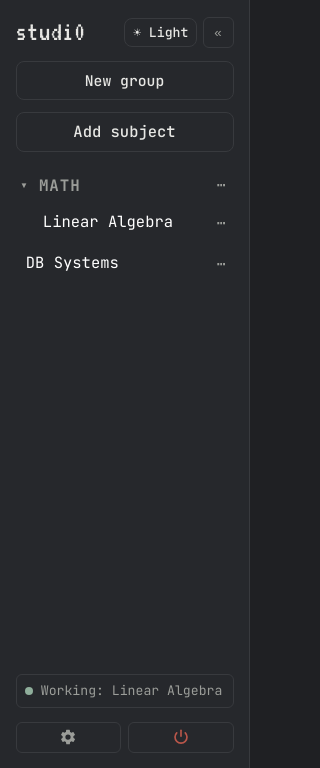
Test: Sidebar agent status › shows the working label and task/job rows when busy
The width and height of the screenshot is (320, 768).
Click the button "Working: Linear Algebra" at (124, 691), box [16,674,234,708]
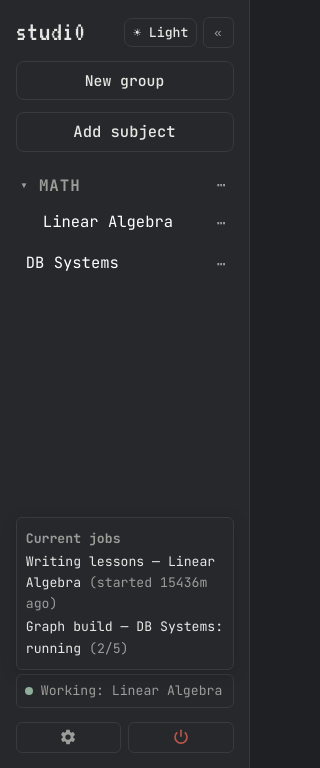
Now the text "Writing lessons — Linear Algebra (started 15436m ago)" is shown, box [26,551,223,614]
Now the text "Graph build — DB Systems: running (2/5)" is shown, box [26,616,223,659]
Now the text "(2/5)" is shown, box [89,640,128,656]
